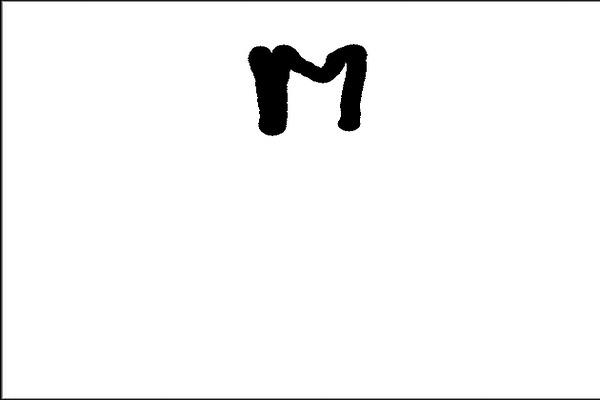M: (242, 39, 375, 133)
